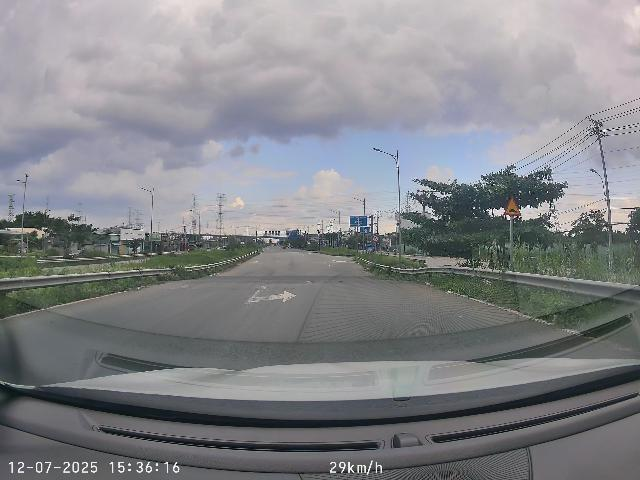221-duong-go-ghe: (504, 196, 522, 217)
